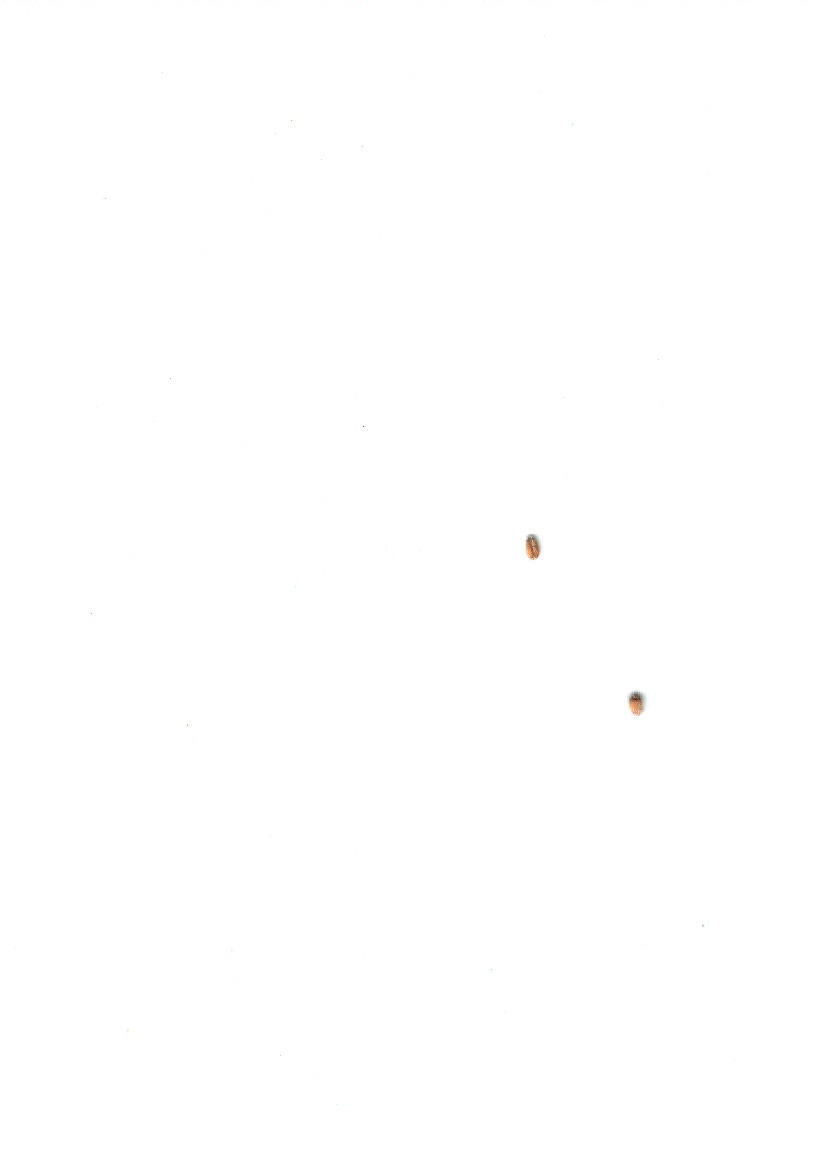grains: (520, 525, 549, 568), (624, 685, 653, 727)
